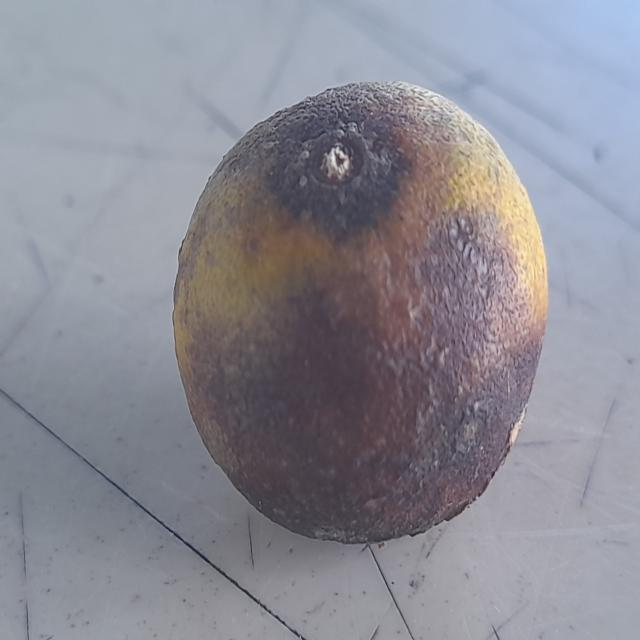black spot: (165, 77, 552, 536)
